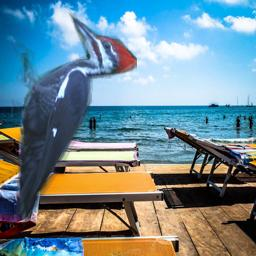Woodpecker: (11, 8, 137, 229)
